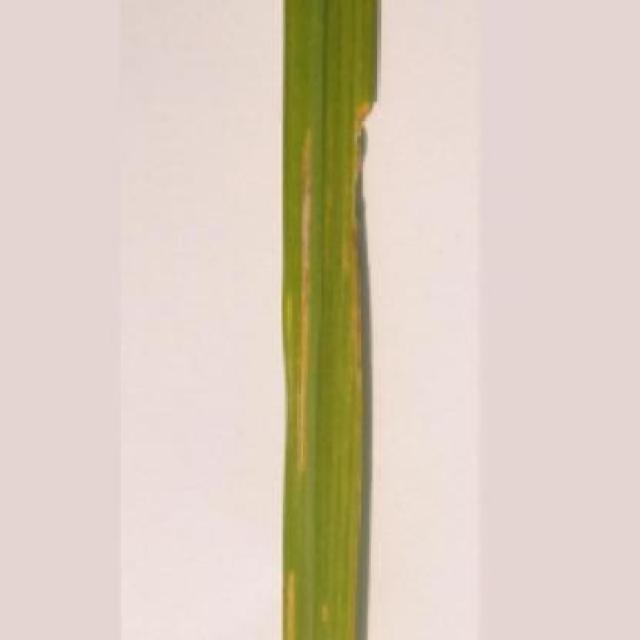Brown_Spot: (274, 0, 380, 640)
